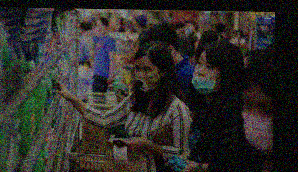mask_weared_incorrect: (190, 54, 222, 95)
with_mask: (239, 90, 274, 152), (133, 62, 162, 93)
without_mask: (95, 22, 108, 36)
